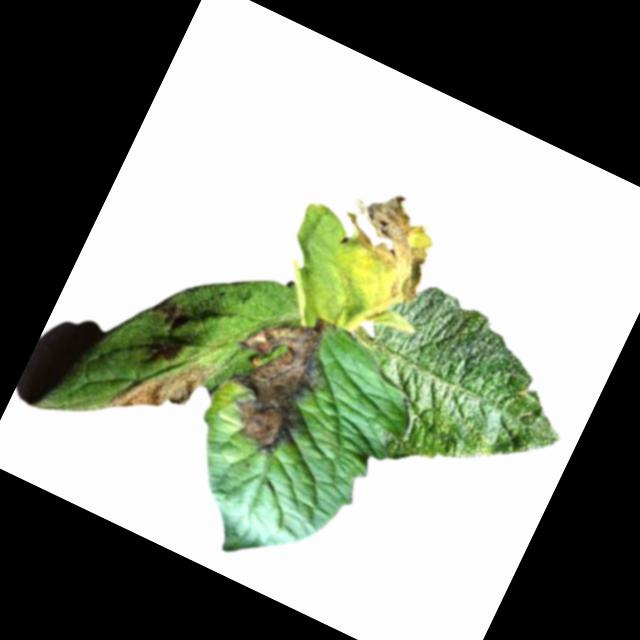Late_blight: (201, 289, 351, 464), (307, 177, 453, 335), (103, 329, 219, 446), (147, 293, 185, 331)
healthy: (323, 267, 594, 520)
